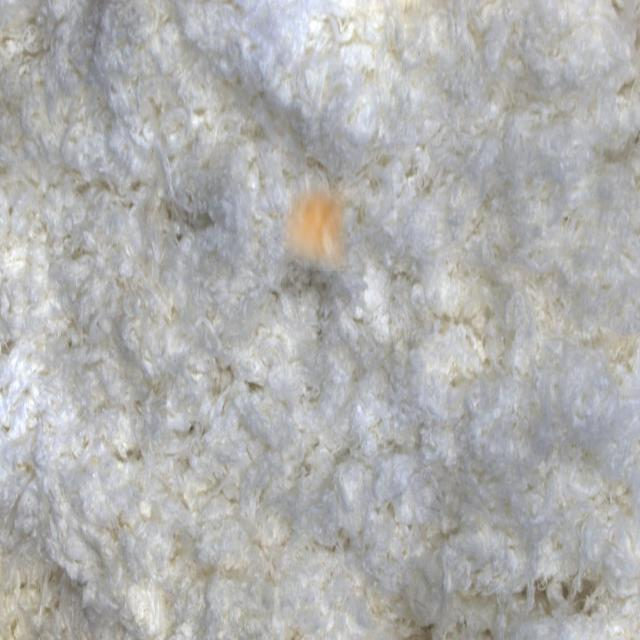dust: (280, 179, 352, 271)
